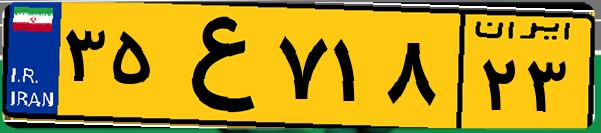1: (330, 28, 385, 110)
2: (475, 38, 525, 113)
3: (57, 26, 110, 100), (525, 38, 570, 115)
5: (110, 28, 158, 98)
7: (270, 28, 330, 110)
8: (385, 28, 445, 110)
ع: (158, 12, 270, 120)
